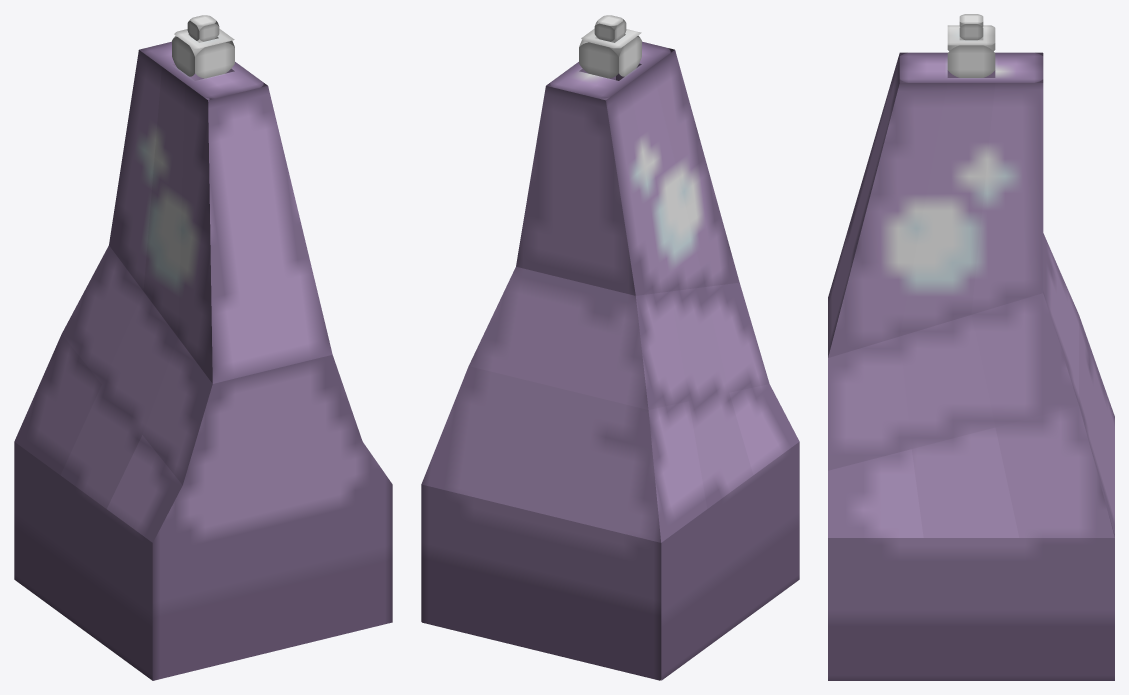
File: Cleaning Products.fbx
3 views of the same model, side by side, from view 1: azimuth 30°, elevation 25°; view 2: azimuth 150°, elevation 25°; view 3: azimuth 270°, elevation 25° (orthographic). The views are drawn at different scales.
Parts seen in each view (by area): view 1: Cleaning Product; view 2: Cleaning Product; view 3: Cleaning Product.
Boxes of the visible parts, left/top/right/bottom form: Cleaning Product: left=14, top=15, right=392, bottom=680; Cleaning Product: left=421, top=15, right=799, bottom=680; Cleaning Product: left=828, top=14, right=1114, bottom=680.
Size of the model in its own units: 12800 by 29600 by 12800.
1 material, 1 textured.
